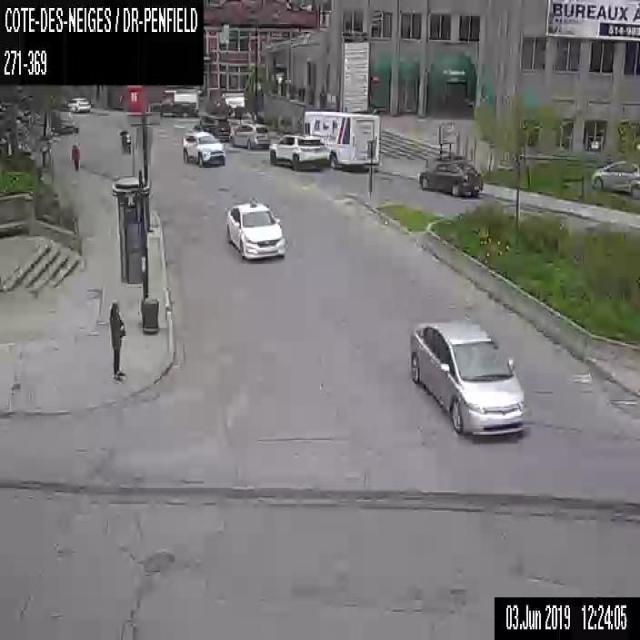pedestrian: (108, 298, 126, 382), (71, 141, 81, 172)
vehicle: (408, 316, 524, 439), (302, 108, 381, 169), (223, 199, 284, 260), (418, 156, 483, 196), (268, 133, 329, 170), (590, 158, 639, 198), (182, 130, 225, 166), (231, 123, 269, 149), (193, 114, 230, 140), (151, 95, 196, 116), (50, 109, 74, 133), (67, 96, 90, 112)
